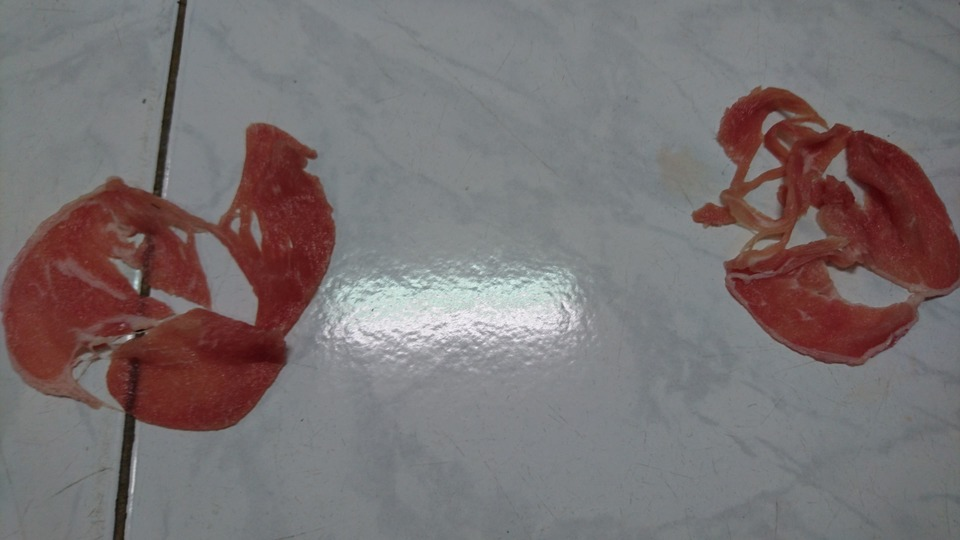restructured meat: (5, 119, 339, 443), (691, 73, 960, 364)
